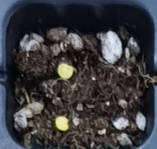chilli seed: (56, 62, 73, 80), (55, 115, 69, 130)
